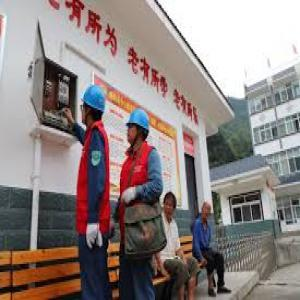blue: (127, 108, 152, 149), (81, 86, 106, 126)
none: (164, 190, 177, 221), (201, 201, 213, 222)
